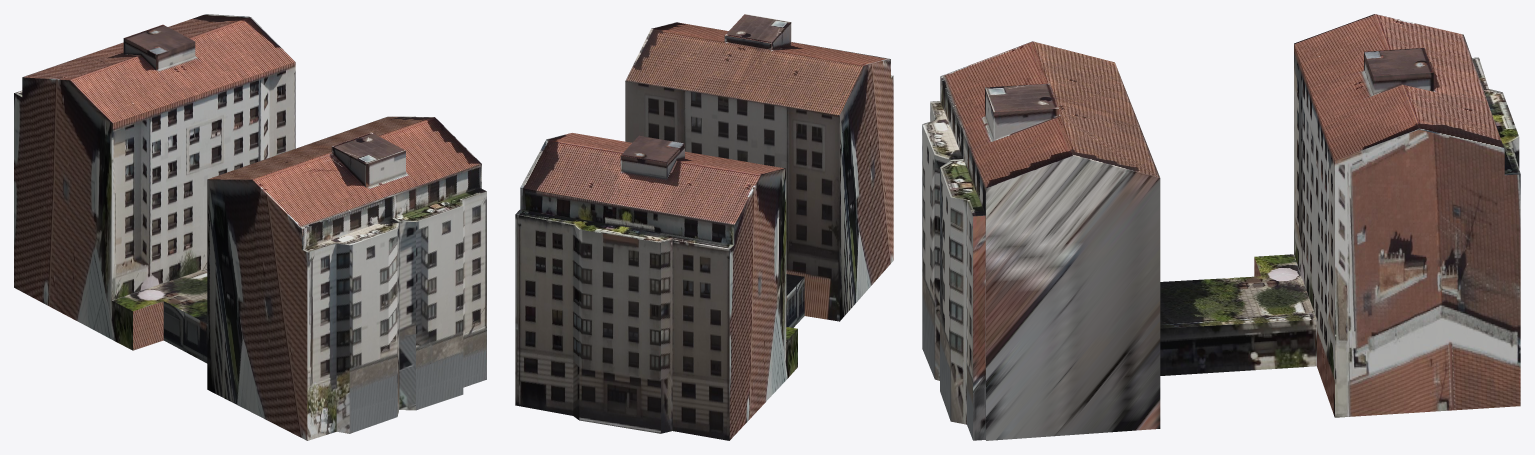
3 renders of one model, left to right at view 1: azimuth 30°, elevation 25°; view 2: azimuth 150°, elevation 25°; view 3: azimuth 270°, elevation 25°, orthographic. The views are drawn at different scales.
Visible parts, largest first — view 1: Z_UP; view 2: Z_UP; view 3: Z_UP.
Boxes of the visible parts, left/top/right/bottom form: Z_UP: left=14, top=14, right=486, bottom=440; Z_UP: left=515, top=14, right=893, bottom=440; Z_UP: left=922, top=14, right=1520, bottom=440.
Bounding box in the file's own units: 29.17 × 26.22 × 48.66.
Materials: 2 (1 with a texture image).
